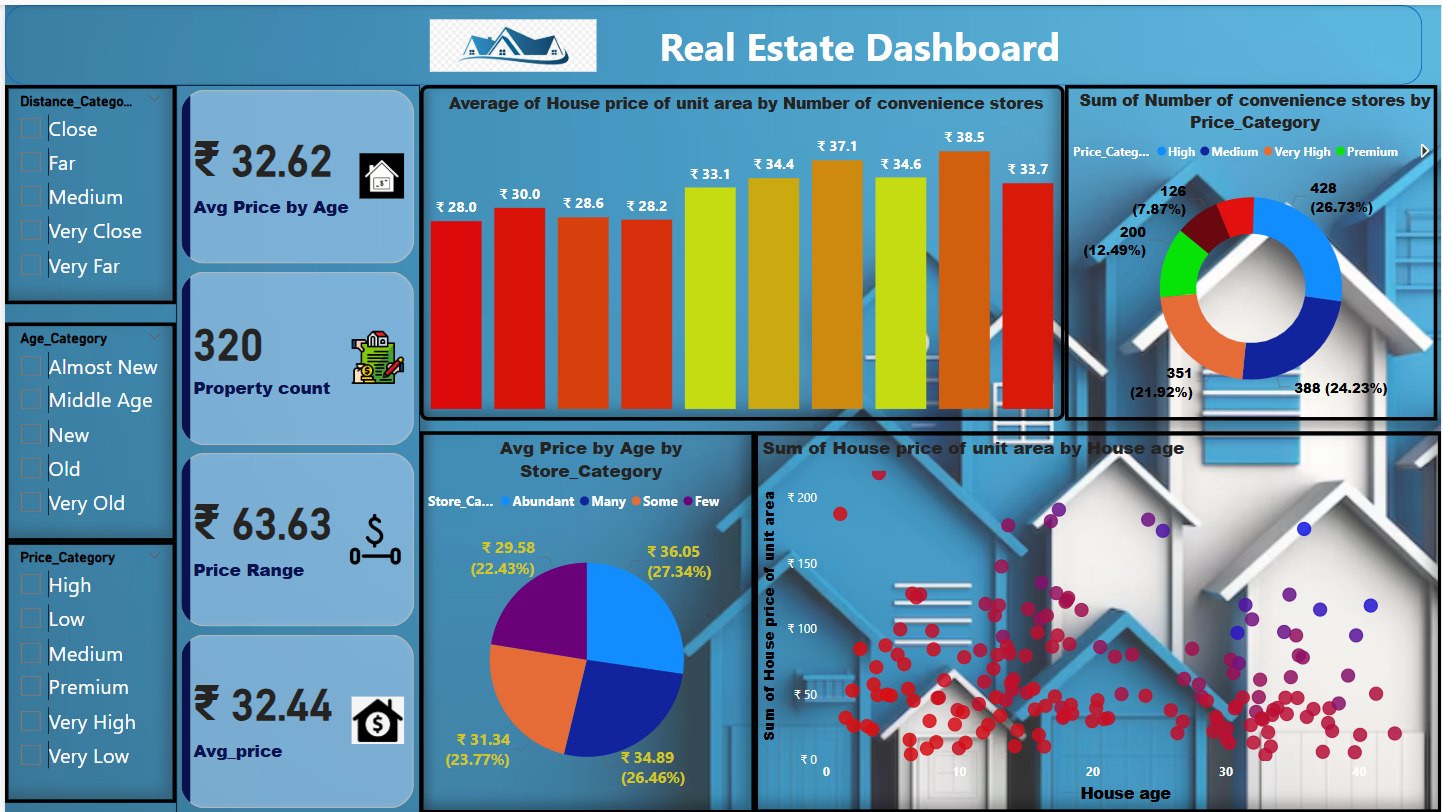

The page's visual inventory and layout, read from the dashboard file:
{"tool":"powerbi","page":{"name":"Page 1","canvas":[1600,900],"ordinal":0},"visuals":[{"type":"cardVisual","fields":{"Data":["cleaned_real_estate_data.Avg Price by Age","cleaned_real_estate_data.Property count","cleaned_real_estate_data.Price Range","cleaned_real_estate_data.Avg_price"]},"box":[190,89,271.4,811.3],"z":0},{"type":"columnChart","fields":{"Category":["cleaned_real_estate_data.Number of convenience stores"],"Y":["Avg(cleaned_real_estate_data.House price of unit area)"]},"box":[461.5,89,717.8,374],"z":1000},{"type":"pieChart","fields":{"Y":["cleaned_real_estate_data.Avg Price by Age"],"Category":["cleaned_real_estate_data.Store_Category"]},"box":[461.5,475,372.5,425.3],"z":2000},{"type":"donutChart","fields":{"Category":["cleaned_real_estate_data.Price_Category"],"Y":["Sum(cleaned_real_estate_data.Number of convenience stores)"]},"box":[1179.3,89,414.7,374],"z":3000},{"type":"scatterChart","fields":{"Y":["Sum(cleaned_real_estate_data.House price of unit area)"],"X":["cleaned_real_estate_data.House age"]},"box":[834,475,766.1,425.3],"z":4000},{"type":"shape","box":[0,0,1577.4,89],"z":5000},{"type":"textbox","box":[325.7,10.6,1251.7,67.9],"z":6000},{"type":"image","box":[410.2,10.6,310.7,67.9],"z":7000},{"type":"slicer","fields":{"Values":["cleaned_real_estate_data.Distance_Category"]},"box":[0,89,190,244.3],"z":8000},{"type":"slicer","fields":{"Values":["cleaned_real_estate_data.Age_Category"]},"box":[0,352.9,190,244.3],"z":9000},{"type":"slicer","fields":{"Values":["cleaned_real_estate_data.Price_Category"]},"box":[0,597.2,190,291.1],"z":10000}]}

Visuals, with their boxes in screenshot pixels (x1, y1, x2, y2), scaled from the page's 1600x900 canvas onto the 1442x812 screenshot:
cardVisual - cleaned_real_estate_data.Avg Price by Age x cleaned_real_estate_data.Property count: x1=171, y1=80, x2=416, y2=811
columnChart - cleaned_real_estate_data.Number of convenience stores x Avg(cleaned_real_estate_data.House price of unit area): x1=416, y1=80, x2=1063, y2=418
pieChart - cleaned_real_estate_data.Avg Price by Age x cleaned_real_estate_data.Store_Category: x1=416, y1=429, x2=752, y2=811
donutChart - cleaned_real_estate_data.Price_Category x Sum(cleaned_real_estate_data.Number of convenience stores): x1=1063, y1=80, x2=1437, y2=418
scatterChart - Sum(cleaned_real_estate_data.House price of unit area) x cleaned_real_estate_data.House age: x1=752, y1=429, x2=1441, y2=811
shape: x1=0, y1=0, x2=1422, y2=80
textbox: x1=294, y1=10, x2=1422, y2=71
image: x1=370, y1=10, x2=650, y2=71
slicer - cleaned_real_estate_data.Distance_Category: x1=0, y1=80, x2=171, y2=301
slicer - cleaned_real_estate_data.Age_Category: x1=0, y1=318, x2=171, y2=539
slicer - cleaned_real_estate_data.Price_Category: x1=0, y1=539, x2=171, y2=801
